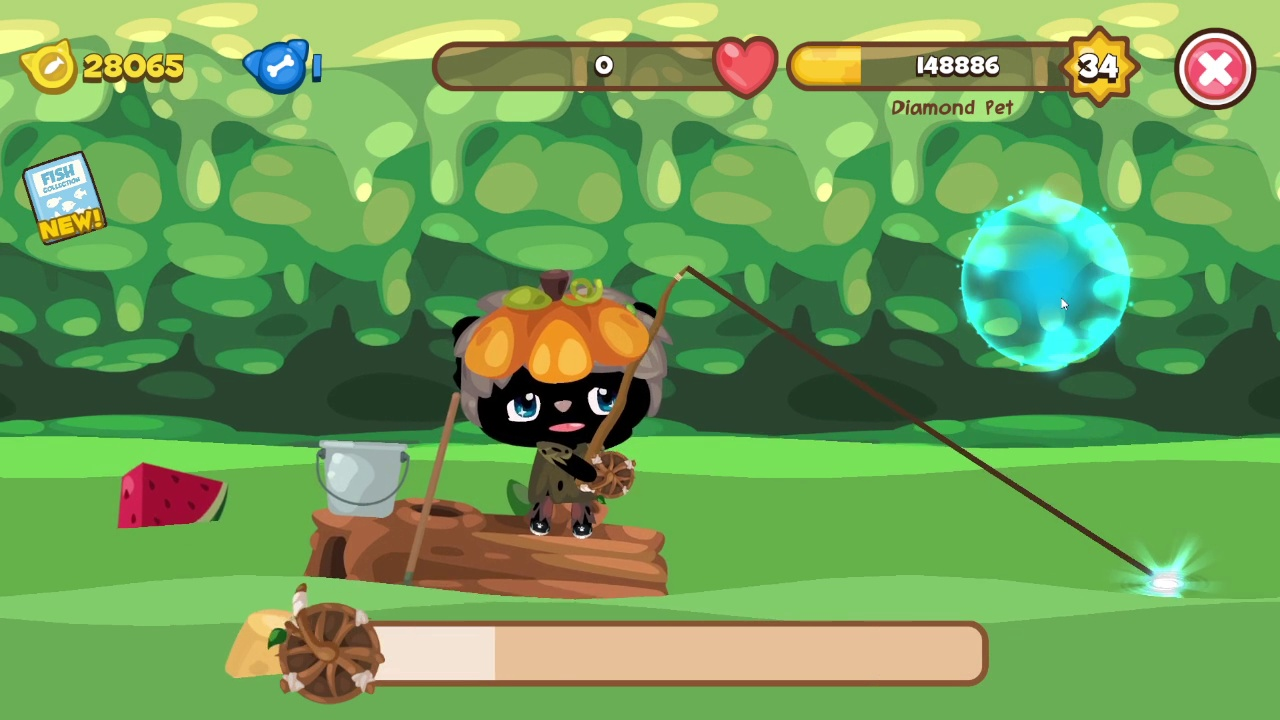point: (959, 192, 1132, 368)
